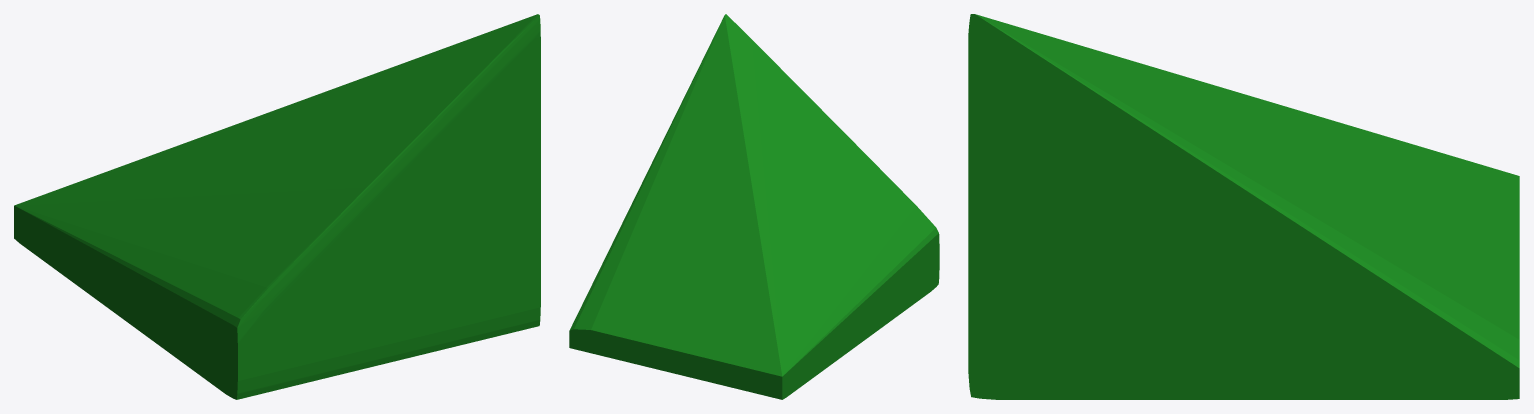
Rendered from right_hip_yaw_link_part_8.obj.
3 views of the same model, side by side, from view 1: azimuth 30°, elevation 25°; view 2: azimuth 150°, elevation 25°; view 3: azimuth 270°, elevation 25° (orthographic). The views are drawn at different scales.
Size of the model in its own units: 0.031 by 0.0307 by 0.0397.
